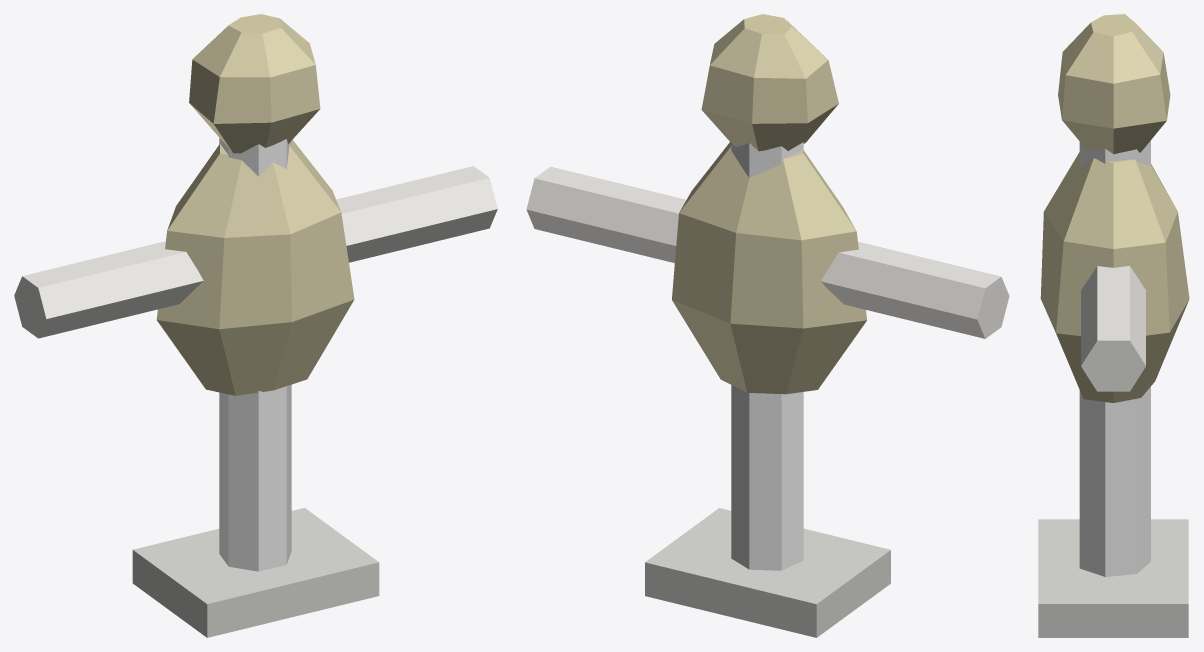
Rendered from dummy.glb.
3 renders of one model, left to right at view 1: azimuth 30°, elevation 25°; view 2: azimuth 150°, elevation 25°; view 3: azimuth 270°, elevation 25°, orthographic.
Parts seen in each view (by area): view 1: dummy; view 2: dummy; view 3: dummy.
Boxes of the visible parts, left/top/right/bottom form: dummy: left=14, top=14, right=497, bottom=637; dummy: left=526, top=14, right=1009, bottom=637; dummy: left=1038, top=14, right=1189, bottom=637.
Size of the model in its own units: 2.62 by 3.14 by 0.7542.
